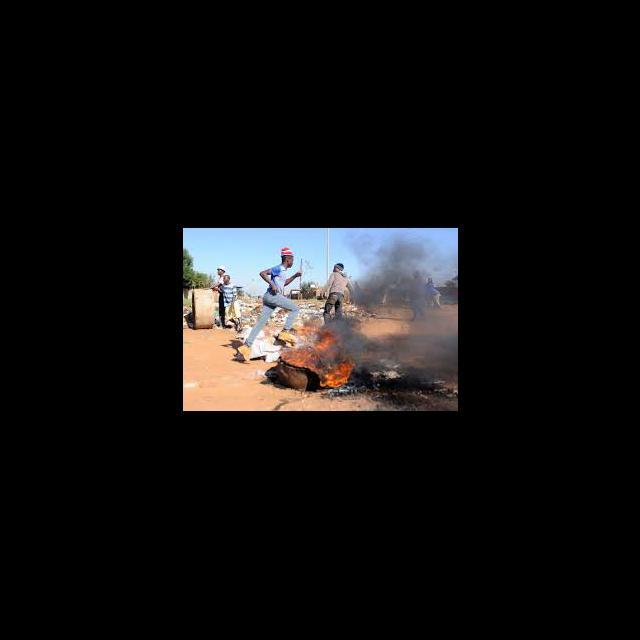Fire: (278, 332, 356, 390)
Smoke: (348, 232, 434, 320), (356, 315, 458, 369)
